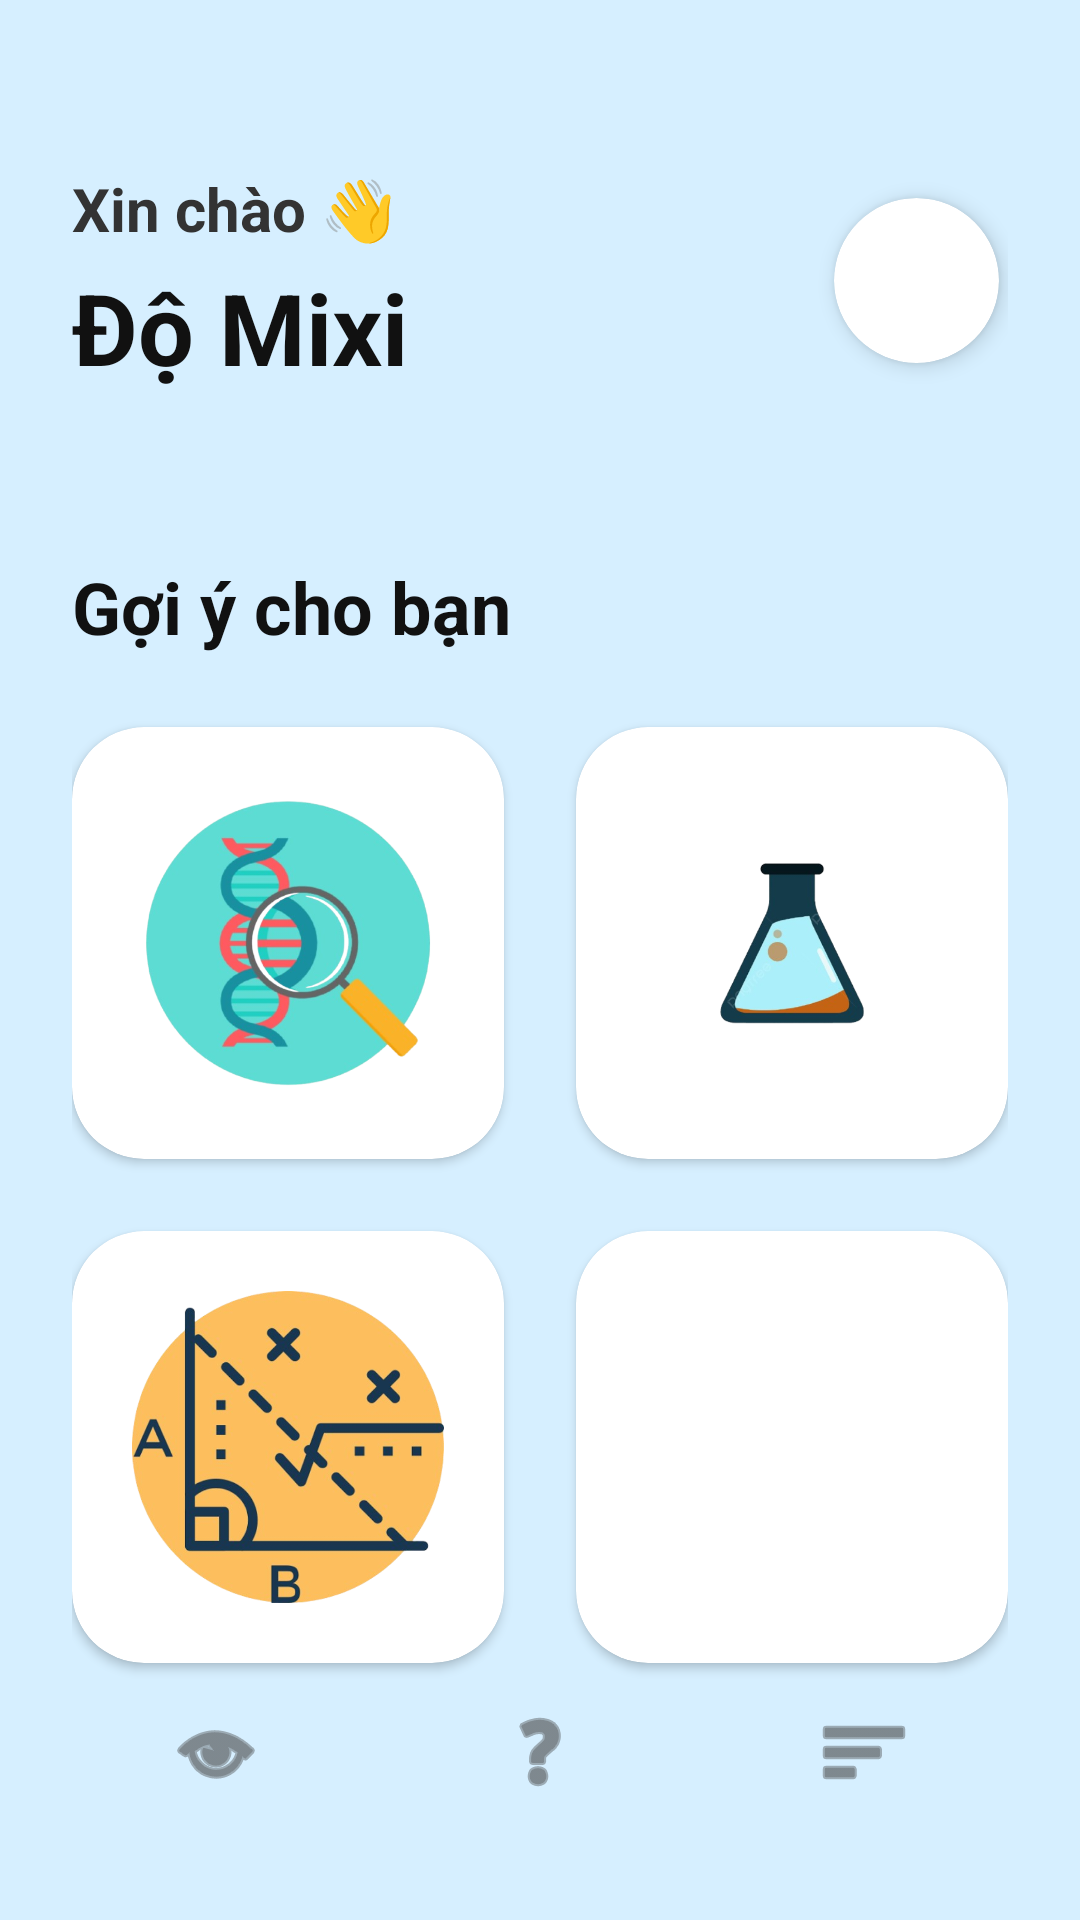

Named icons in this screenshot (1080 x 1920) and their bounding boxes, (x1, y1, x2, y2):
help: (519, 1718, 561, 1786)
sort by size: (823, 1726, 905, 1779)
view: (177, 1730, 255, 1779)
